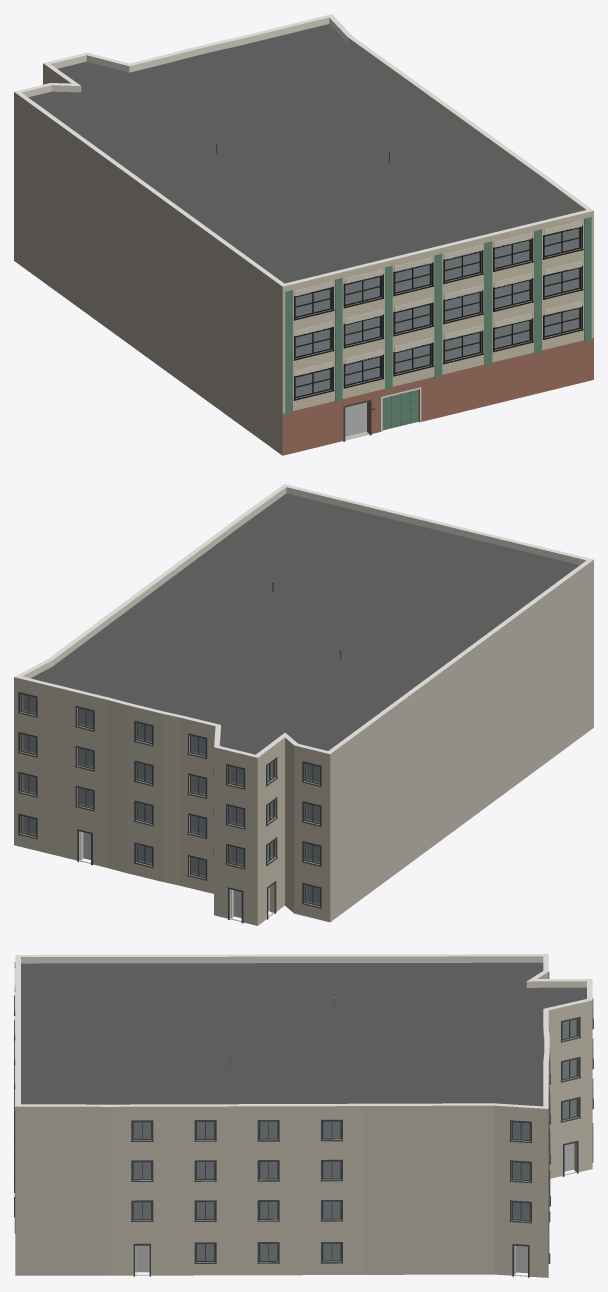
The model's file is exterior.glb.
The picture shows the model from 3 angles, top to bottom: view 1: azimuth 30°, elevation 25°; view 2: azimuth 150°, elevation 25°; view 3: azimuth 270°, elevation 25°; orthographic projection.
Parts seen in each view (by area): view 1: shell, roof, trim, glazing, shadow-proxy, frames, doors; view 2: shell, roof, glazing, shadow-proxy, trim, frames; view 3: shell, roof, shadow-proxy, glazing, trim, frames.
Part boxes in pixels (x1,y1,x2,y2): shell: (14, 14, 593, 455); roof: (28, 24, 579, 283); trim: (285, 217, 591, 441); glazing: (295, 228, 579, 396); shadow-proxy: (296, 229, 578, 436); frames: (295, 227, 580, 398); doors: (345, 387, 421, 440); shell: (14, 484, 593, 925); roof: (30, 493, 579, 754); glazing: (22, 694, 319, 904); shadow-proxy: (23, 695, 319, 918); trim: (18, 692, 321, 923); frames: (20, 694, 319, 906); shell: (15, 954, 592, 1277); roof: (21, 962, 586, 1106); shadow-proxy: (134, 1019, 575, 1273); glazing: (133, 1019, 576, 1260); trim: (14, 962, 593, 1277); frames: (132, 1018, 578, 1261).
Bounding box in the file's own units: 22.95 × 11.95 × 36.29.
